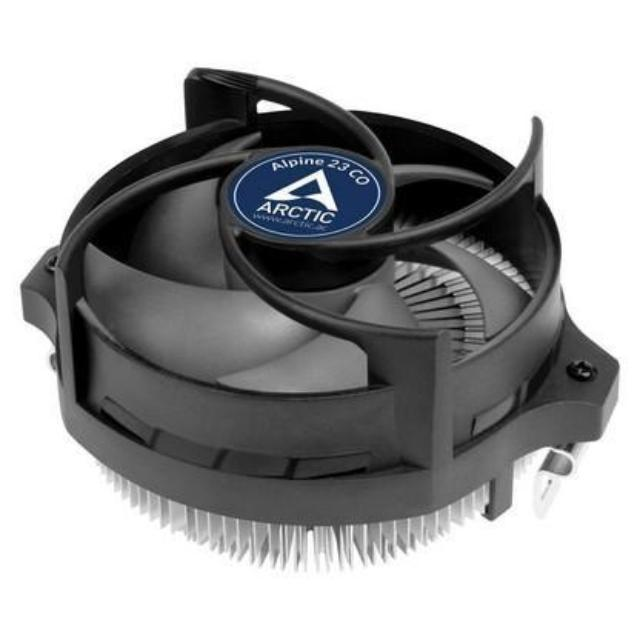CPU_Fan: (36, 62, 619, 564)
